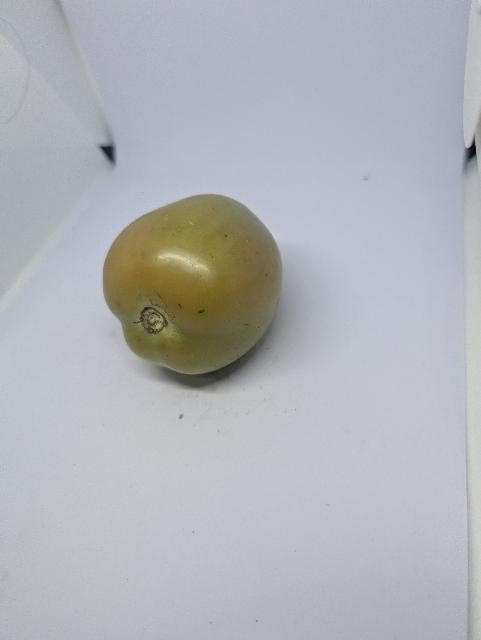breaker: (99, 191, 285, 386)
